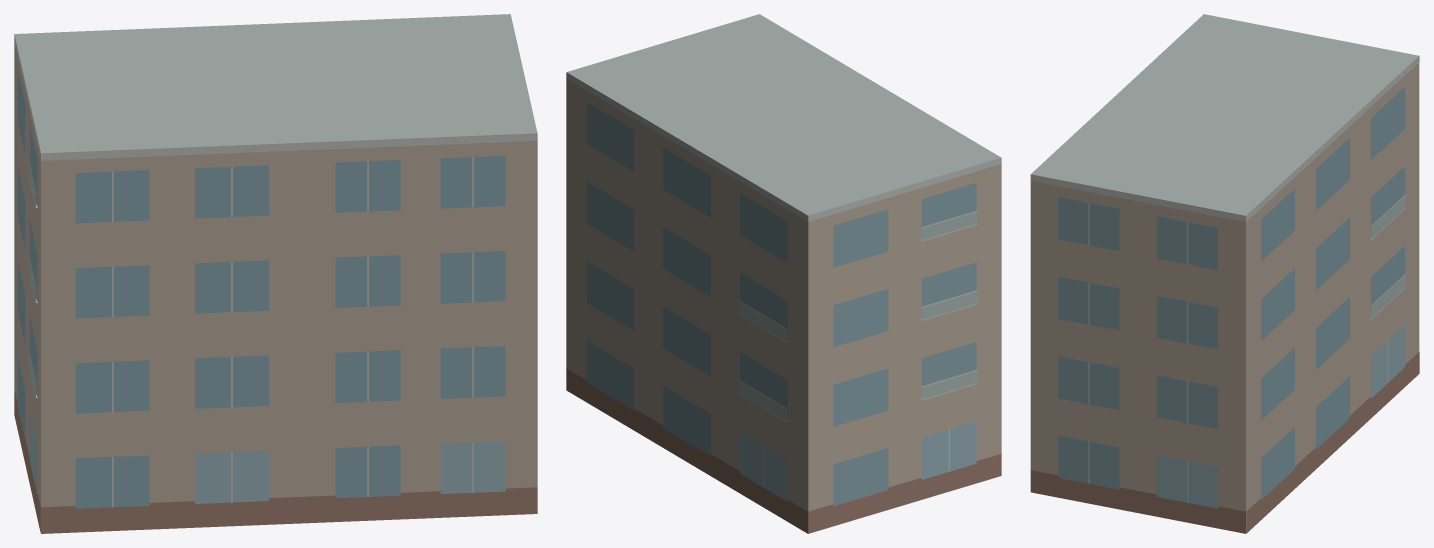
The model's file is residential-5976ba21-8646-4a39-a9ca-94eea447a8f0.glb.
The picture shows the model from 3 angles, left to right: view 1: azimuth 30°, elevation 25°; view 2: azimuth 150°, elevation 25°; view 3: azimuth 270°, elevation 25°; orthographic projection. The views are drawn at different scales.
Parts seen in each view (by area): view 1: residential-5976ba21-8646-4a39-a9ca-94eea447a8f0.tmp; view 2: residential-5976ba21-8646-4a39-a9ca-94eea447a8f0.tmp; view 3: residential-5976ba21-8646-4a39-a9ca-94eea447a8f0.tmp.
Boxes of the visible parts, <box> form: residential-5976ba21-8646-4a39-a9ca-94eea447a8f0.tmp: <box>14,14,537,533</box>; residential-5976ba21-8646-4a39-a9ca-94eea447a8f0.tmp: <box>566,14,1001,533</box>; residential-5976ba21-8646-4a39-a9ca-94eea447a8f0.tmp: <box>1030,14,1419,533</box>.
Size of the model in its own units: 16.62 by 12.2 by 13.53.
